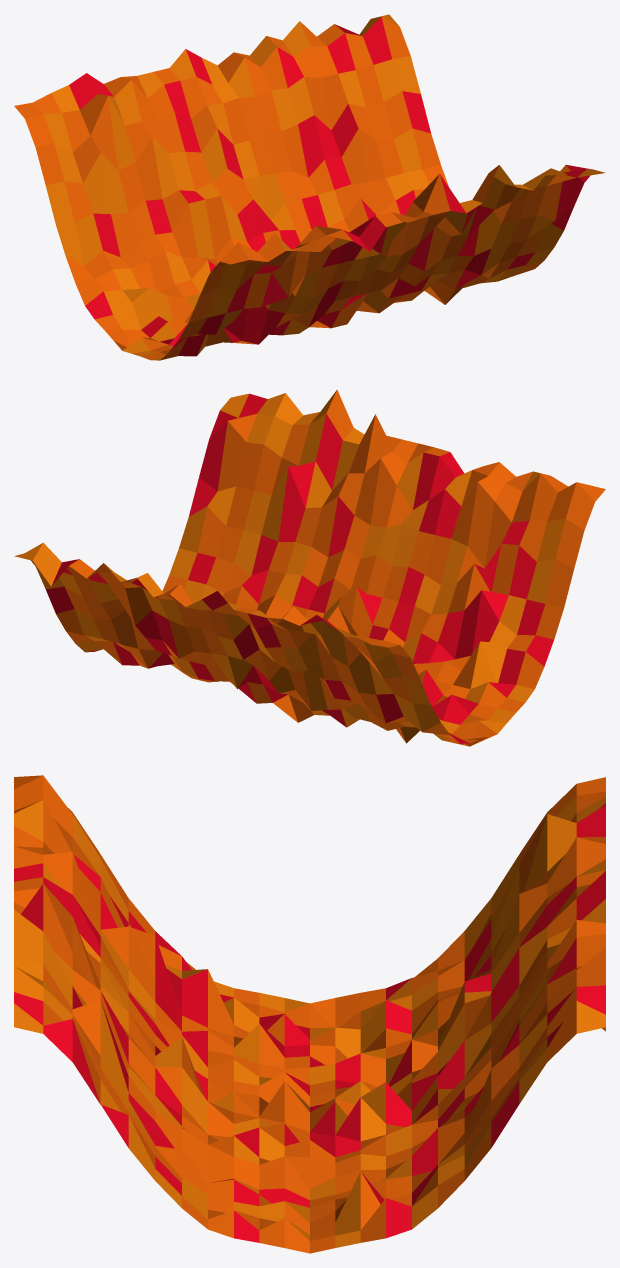
File: canyon4.fbx
3 views of the same model, one above another, from view 1: azimuth 30°, elevation 25°; view 2: azimuth 150°, elevation 25°; view 3: azimuth 270°, elevation 25° (orthographic). The views are drawn at different scales.
Parts seen in each view (by area): view 1: Plane.003; view 2: Plane.003; view 3: Plane.003.
Part boxes in pixels (<box>): Plane.003: <box>14,14,605,360</box>; Plane.003: <box>14,389,605,746</box>; Plane.003: <box>14,775,605,1253</box>.
Size of the model in its own units: 1000 by 544 by 1000.
